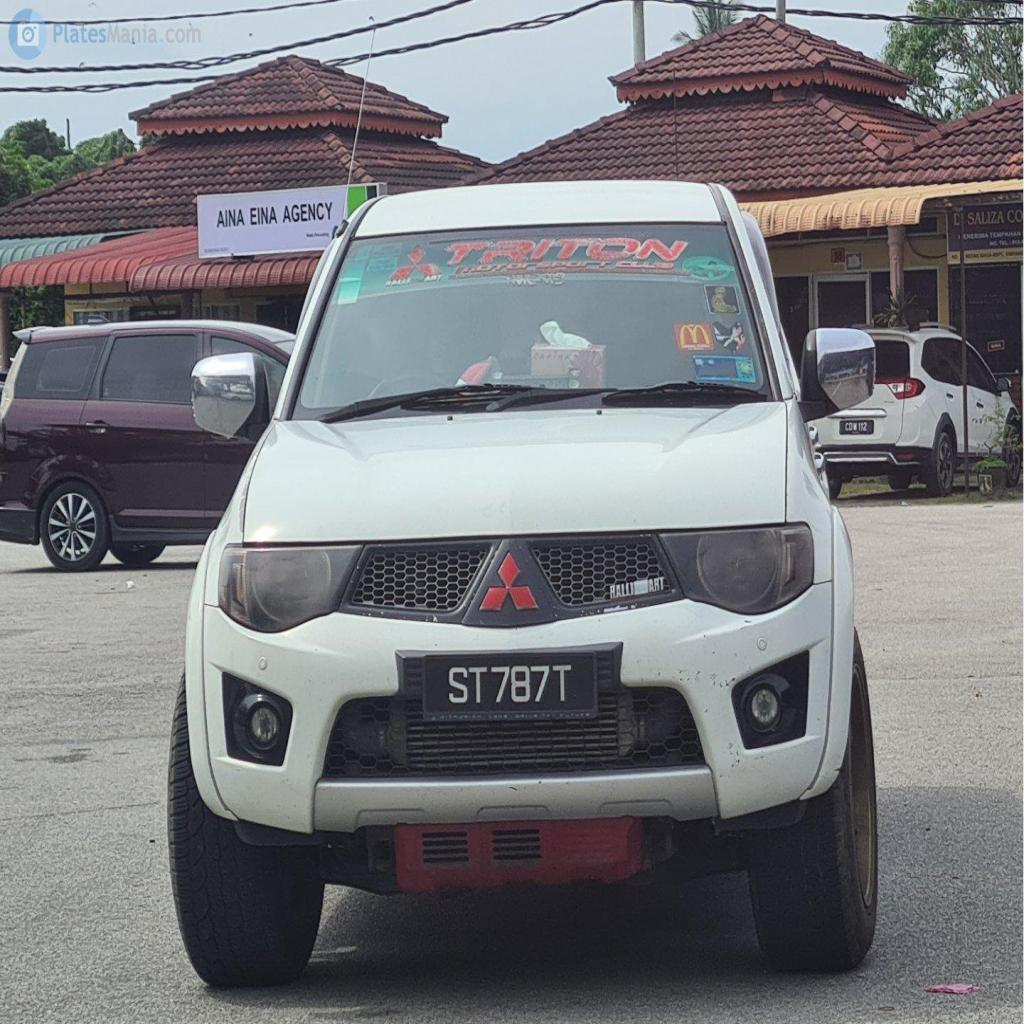car: (169, 180, 876, 983)
car plate: (422, 652, 595, 718)
